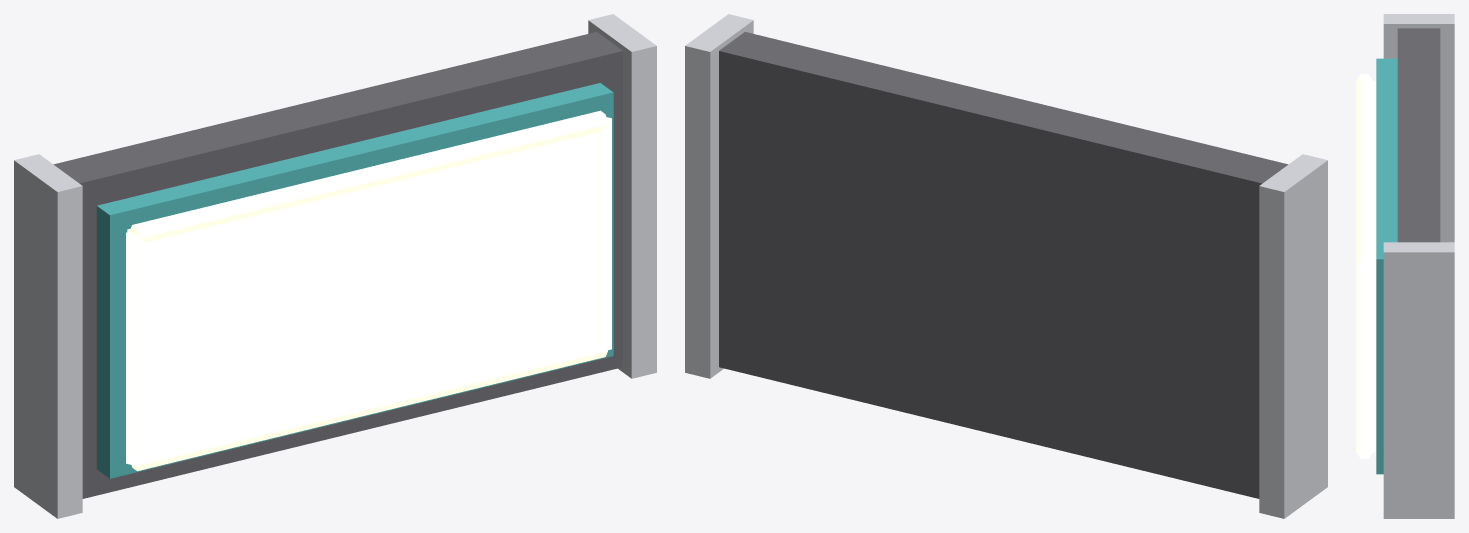
File: retro-diner-and-roadside-motel-neon-sign-frame-blank-f4e706df__37343.glb
3 renders of one model, left to right at view 1: azimuth 30°, elevation 25°; view 2: azimuth 150°, elevation 25°; view 3: azimuth 270°, elevation 25°, orthographic. The views are drawn at different scales.
Visible parts, largest first — view 1: neon-sign-frame-blank-neon, neon-sign-frame-blank-asphalt, neon-sign-frame-blank-chrome, neon-sign-frame-blank-turquoise; view 2: neon-sign-frame-blank-asphalt, neon-sign-frame-blank-chrome; view 3: neon-sign-frame-blank-chrome, neon-sign-frame-blank-asphalt, neon-sign-frame-blank-neon, neon-sign-frame-blank-turquoise.
Boxes of the visible parts, <box> form: neon-sign-frame-blank-neon: <box>126,110,611,471</box>; neon-sign-frame-blank-asphalt: <box>53,32,622,498</box>; neon-sign-frame-blank-chrome: <box>14,14,656,518</box>; neon-sign-frame-blank-turquoise: <box>96,83,613,478</box>; neon-sign-frame-blank-asphalt: <box>719,32,1288,498</box>; neon-sign-frame-blank-chrome: <box>685,14,1327,518</box>; neon-sign-frame-blank-chrome: <box>1383,14,1454,518</box>; neon-sign-frame-blank-asphalt: <box>1397,28,1440,242</box>; neon-sign-frame-blank-neon: <box>1356,74,1376,458</box>; neon-sign-frame-blank-turquoise: <box>1376,58,1397,474</box>.
Bounding box in the file's own units: 2.38 × 1.24 × 0.4149.
